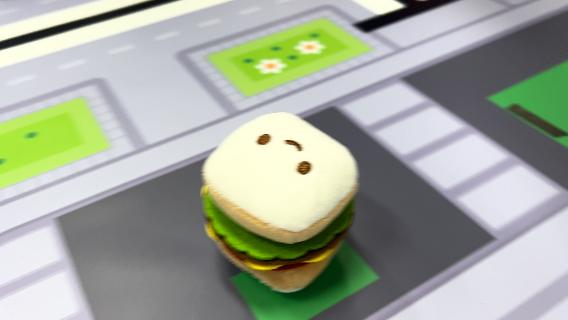sandwich: (198, 110, 362, 294)
